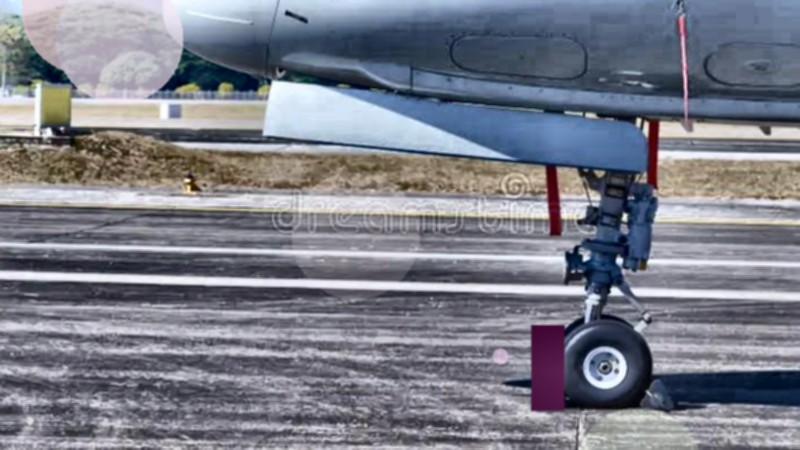chock: (527, 368, 570, 411), (638, 379, 679, 411)
wheel: (549, 312, 654, 411), (555, 312, 636, 351)
